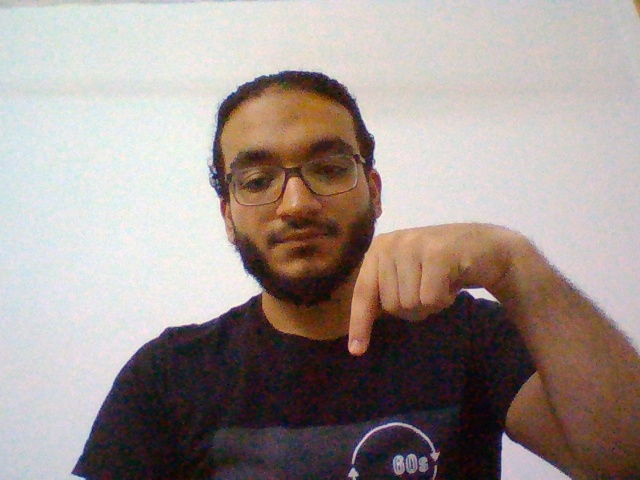Yes: (346, 218, 506, 358)
